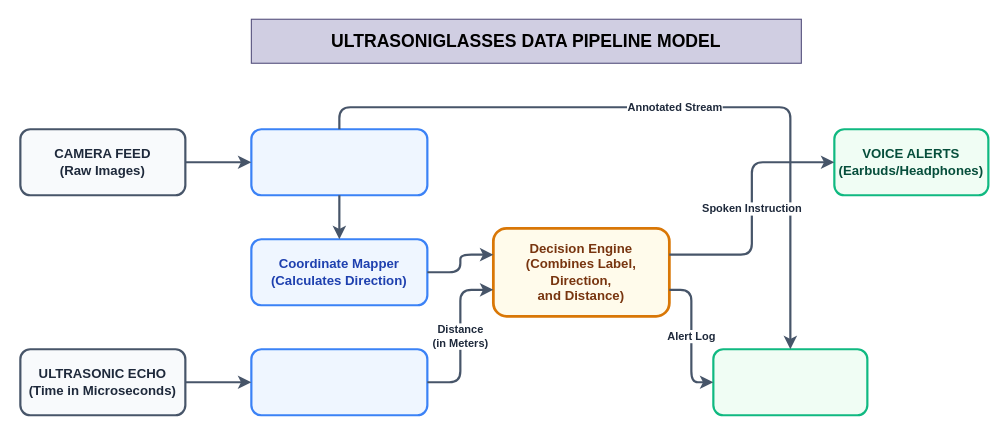
Image size: 1008x436. Some labels were removed from this diagram. The shapes that lost their labels are listed below. From the top down, each one's centre as x and y in pixels, then its label:
the point at 339,162: YOLOv8n AI Engine (Object Label Finder)
the point at 339,382: Distance Calculator (Calculates Meters)
the point at 790,382: WEB DASHBOARD (Visual Monitor)
